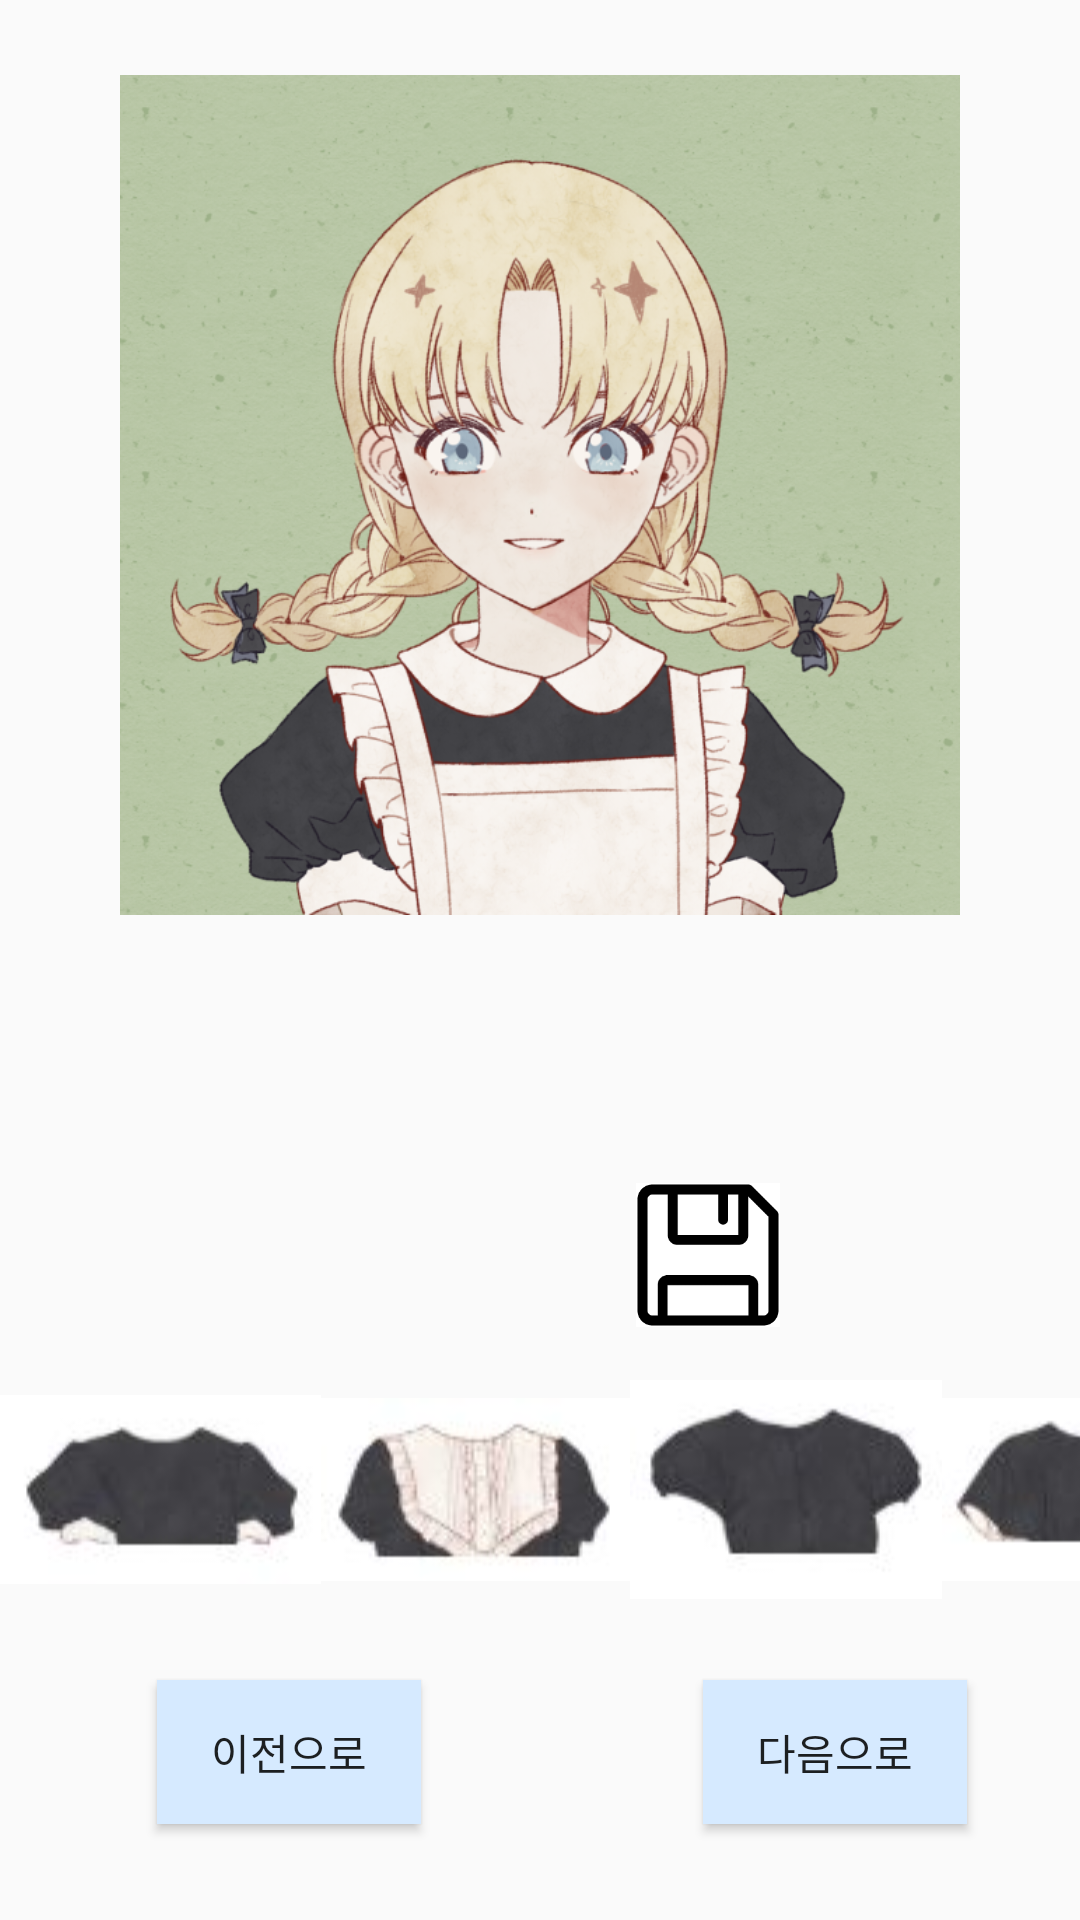

Icons on this 1080 x 1920 Android screen, each with the point to tap as (x,y):
save: (708,1255)
